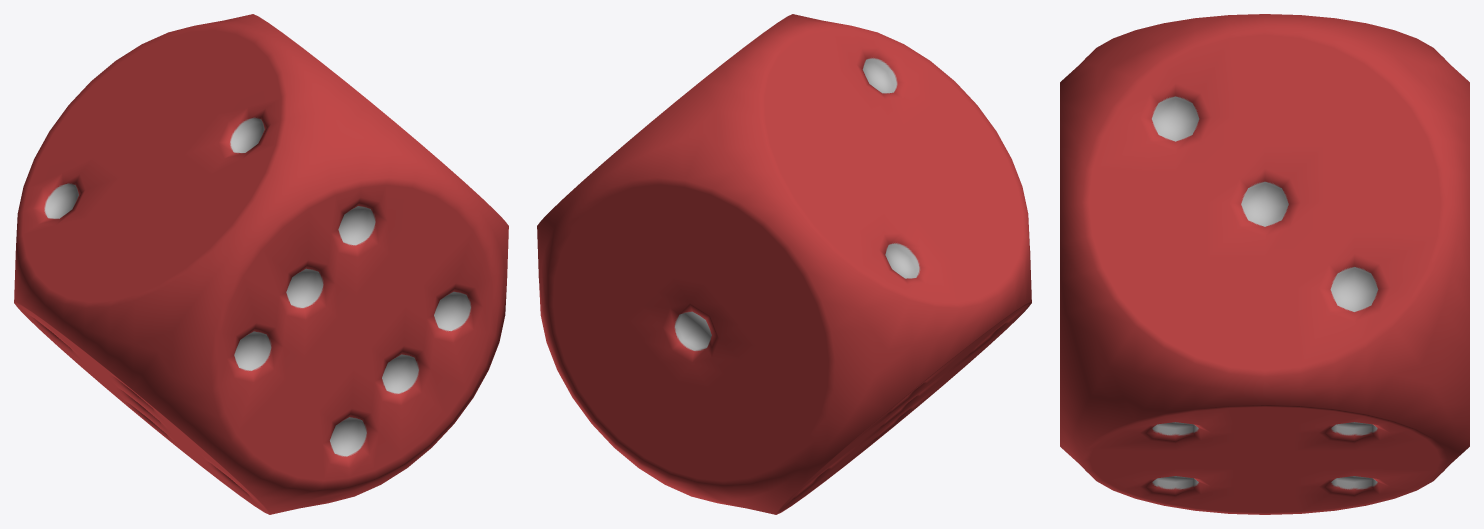
Rendered from diceCollada.dae.
The picture shows the model from 3 angles, left to right: view 1: azimuth 30°, elevation 25°; view 2: azimuth 150°, elevation 25°; view 3: azimuth 270°, elevation 25°; orthographic projection. The views are drawn at different scales.
Parts seen in each view (by area): view 1: Dice; view 2: Dice; view 3: Dice.
Part boxes in pixels (x1=…): Dice: x1=14, y1=14, x2=508, y2=514; Dice: x1=537, y1=14, x2=1031, y2=514; Dice: x1=1060, y1=14, x2=1469, y2=514.
Bounding box in the file's own units: 0.0134 × 0.01 × 0.0134.
Materials: 1 (1 with a texture image).
